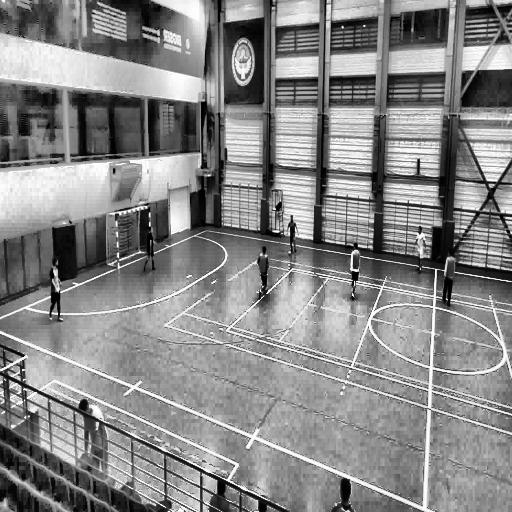ball: (287, 249, 292, 258)
player: (80, 398, 110, 479), (48, 257, 63, 323), (252, 244, 268, 298), (148, 221, 164, 274), (442, 248, 456, 305), (350, 242, 360, 300), (416, 227, 427, 273), (287, 214, 298, 256)
